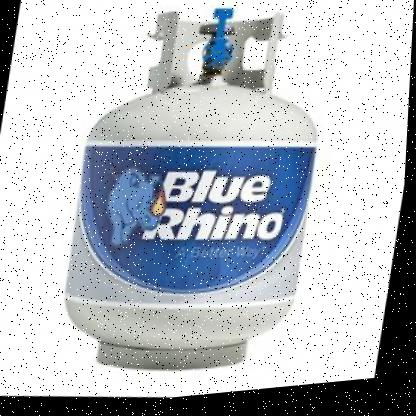gas-tank: (18, 0, 367, 412)
